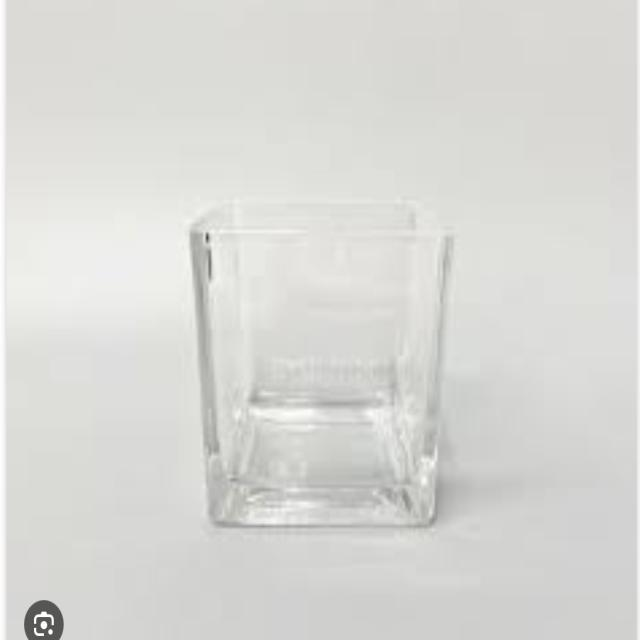recyclable: (166, 178, 469, 546)
